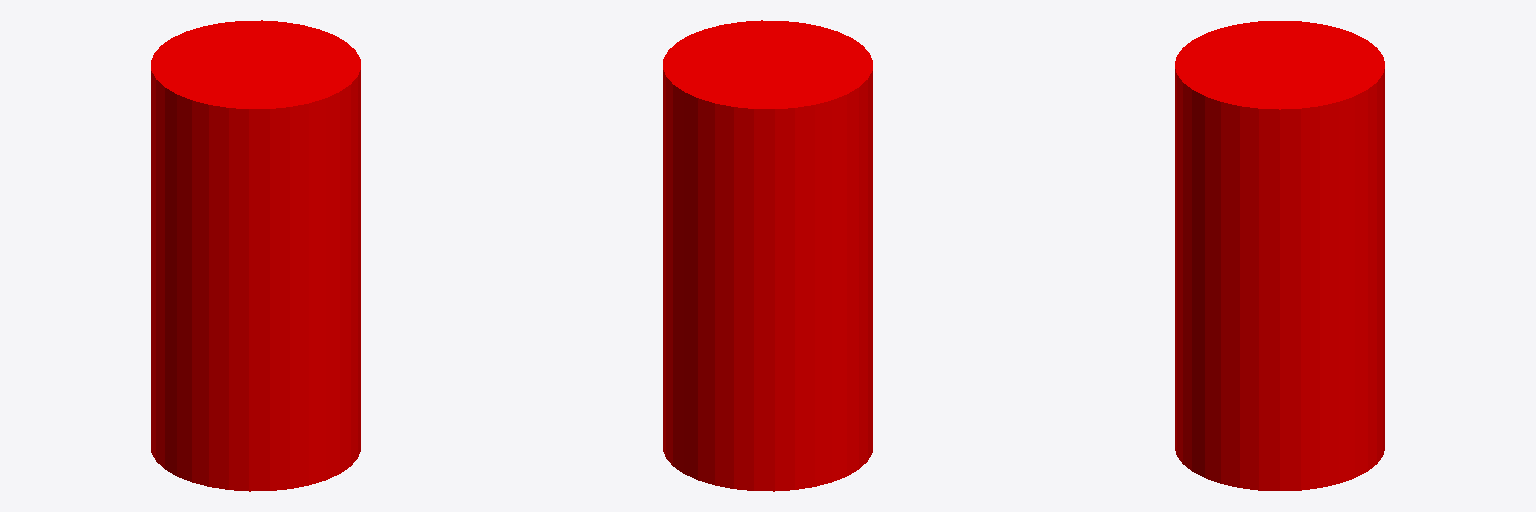
robot.urdf — link2_cylinder:
<?xml version="0.0" ?>
<robot name="link2_cylinder">
  <link name="base_link">
    <inertial>
      <origin rpy="0 0 0" xyz="0 0 0"/>
       <mass value="1e-10"/>
       <inertia ixx="1e-10" ixy="0" ixz="0" iyy="1e-10" iyz="0" izz="1e-10"/>
    </inertial>
    
    <visual>
      <origin rpy="0 0 0" xyz="0 0 0"/>
      <geometry>
        <cylinder radius="0.05" length="0.2"/>      
      </geometry>
      <material name="red">
        <color rgba="1.0 0.0 0.0 0.1"/>
      </material>
    </visual>
  </link>
</robot>

--- Facts derived from the render (not from the file) ---
3 views of the same robot in one strip: view 1: azimuth 30°, elevation 25°; view 2: azimuth 150°, elevation 25°; view 3: azimuth 270°, elevation 25° (orthographic).
Robot: link2_cylinder — 1 links, 0 joints (none); root link base_link; default pose: every joint at zero.
Links seen in each view (by area): view 1: base_link; view 2: base_link; view 3: base_link.
Boxes of the visible links, box(x1,y1,x2,y2) form: base_link: box(151, 20, 360, 491); base_link: box(663, 20, 872, 491); base_link: box(1175, 21, 1384, 490).
Bounding box of the posed robot: 0.1 × 0.1 × 0.2 m (x, y, z).
Geometry: primitives only (box / cylinder / sphere), no mesh files.